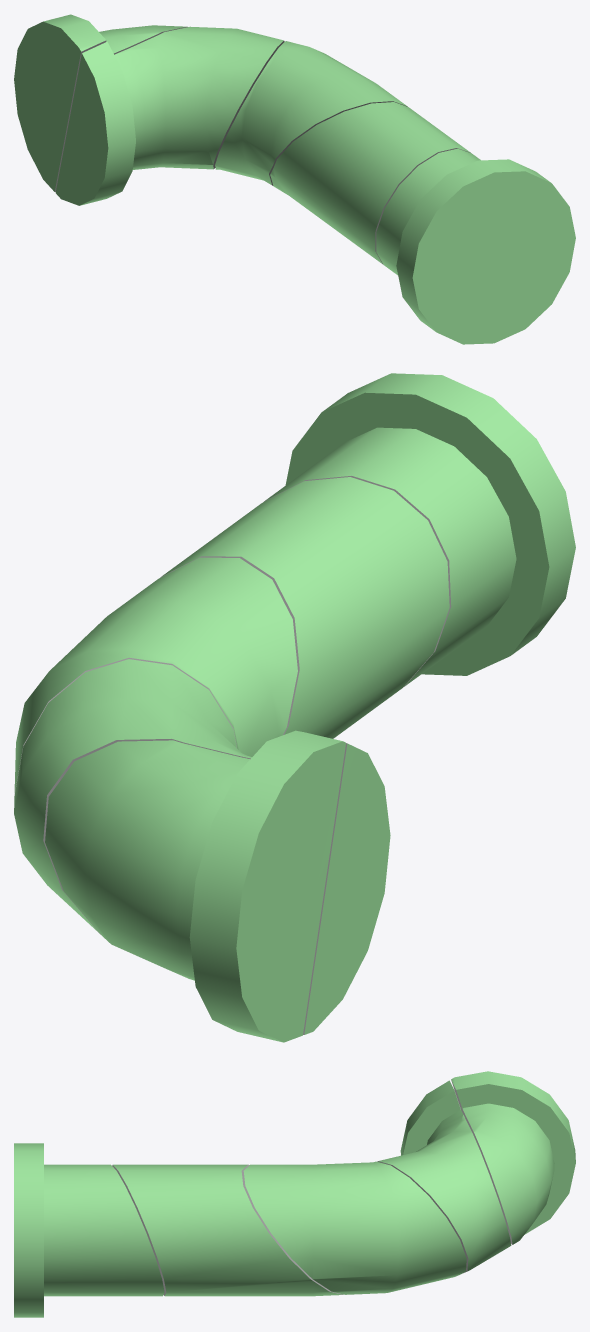
The model's file is CanoCurvoCrak.fbx.
3 views of the same model, one above another, from view 1: azimuth 30°, elevation 25°; view 2: azimuth 150°, elevation 25°; view 3: azimuth 270°, elevation 25° (orthographic). The views are drawn at different scales.
Parts seen in each view (by area): view 1: polySurface80, polySurface83, polySurface81, polySurface82, polySurface84; view 2: polySurface84, polySurface80, polySurface81, polySurface83, polySurface82; view 3: polySurface82, polySurface80, polySurface81, polySurface84, polySurface83.
Boxes of the visible parts, x1,y1,x2,y2 form: polySurface80: (376,148,575,344); polySurface83: (55,26,284,205); polySurface81: (270,102,470,264); polySurface82: (215,41,407,185); polySurface84: (14,14,187,191); polySurface84: (45,730,345,1042); polySurface80: (264,373,575,687); polySurface81: (160,477,449,738); polySurface83: (14,659,390,1034); polySurface82: (14,557,297,793); polySurface82: (243,1161,466,1294); polySurface80: (14,1143,164,1317); polySurface81: (112,1164,343,1296); polySurface84: (451,1071,575,1244); polySurface83: (377,1080,511,1272).
Bounding box in the file's own units: 17.5 × 11.05 × 35.55.
